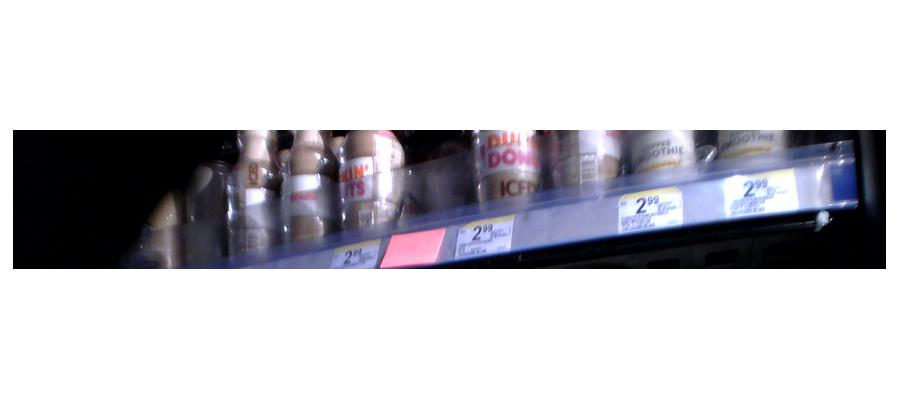bottle: (334, 127, 403, 234), (279, 125, 334, 249), (230, 124, 280, 260), (180, 147, 229, 264), (477, 125, 538, 207), (133, 165, 176, 271)
